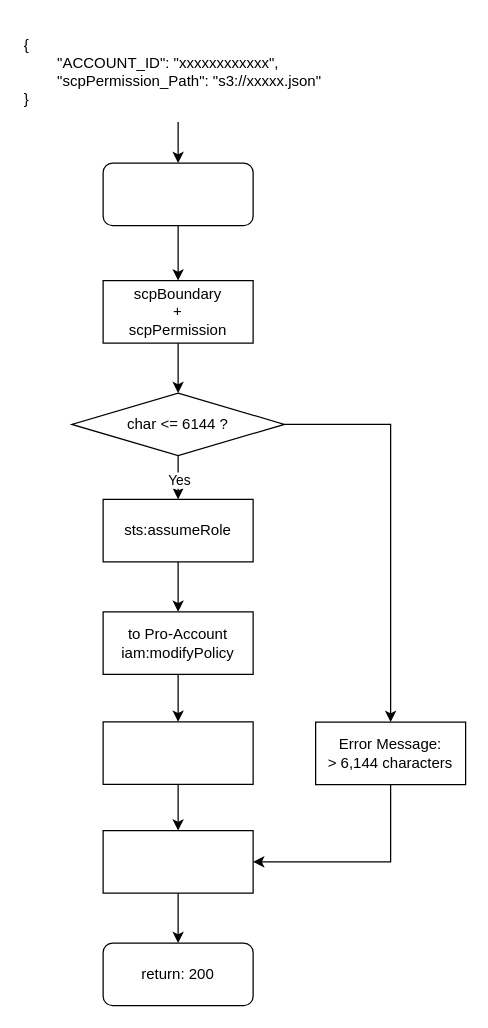
Image size: 488x1028. Some labels were removed from this diagram. Each missing label, with the centre of its shape:
"API-GW scp/update" goes at pixel 177 194.
"to Admin-Accoun ddb:record" goes at pixel 177 752.
"to Admin-Accoun SNS:sendEmail" goes at pixel 177 861.
